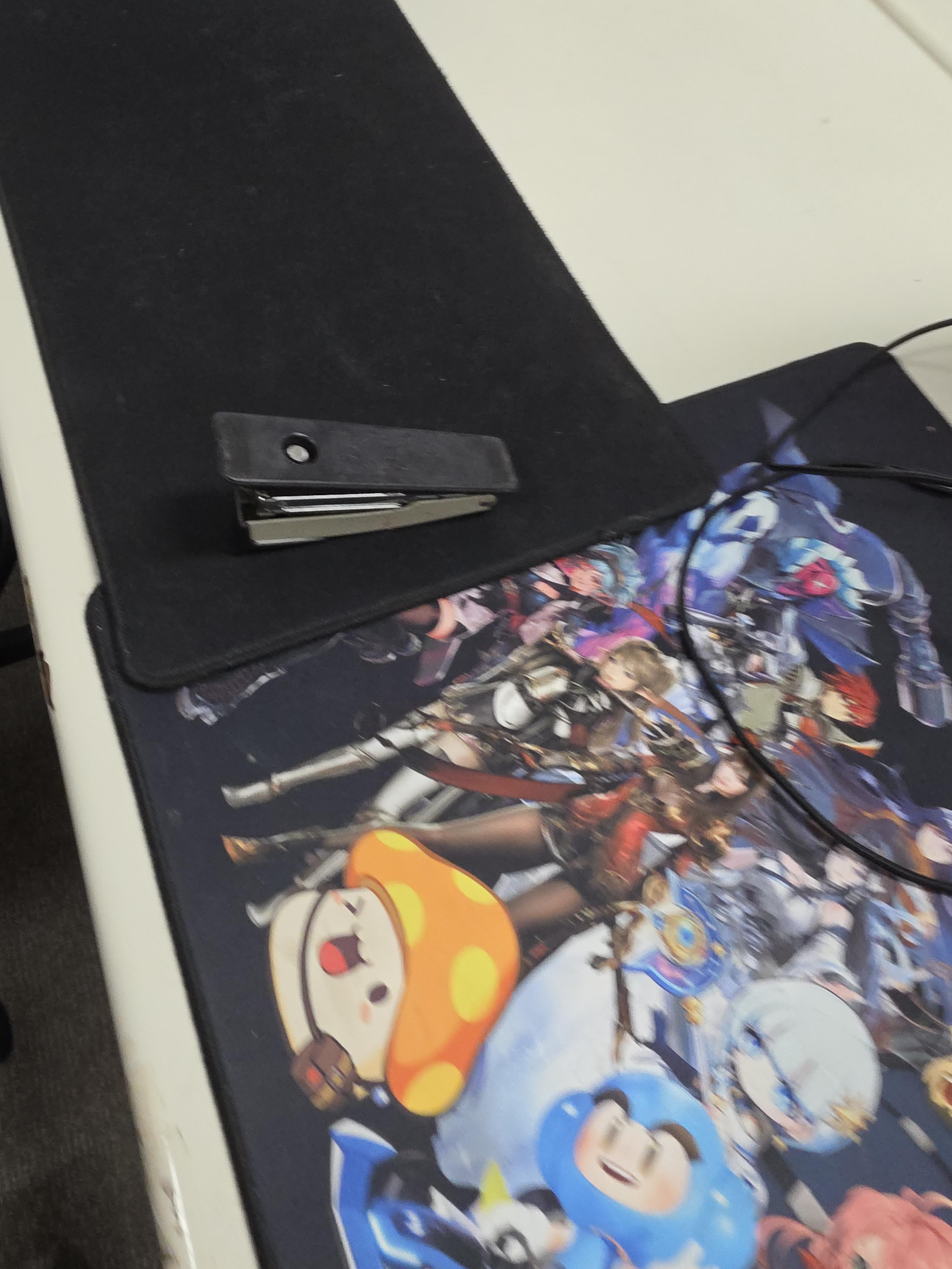stapler: (211, 411, 521, 549)
